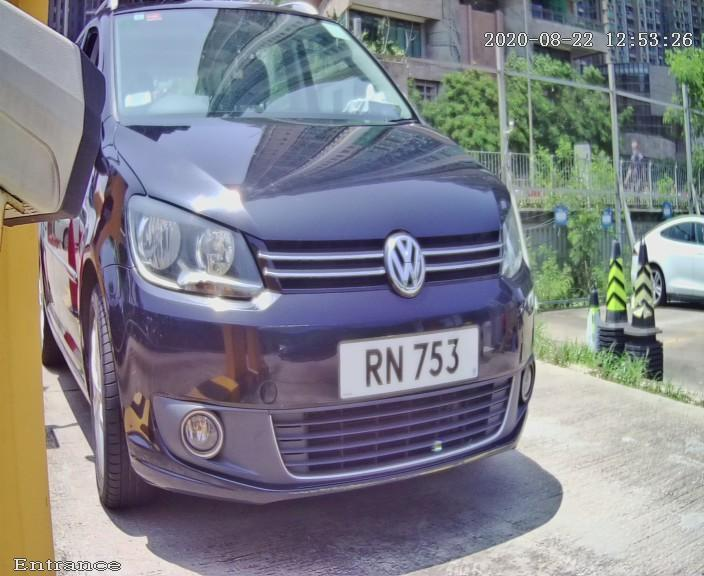Car: (26, 13, 591, 535)
License Plate: (331, 317, 485, 404)
